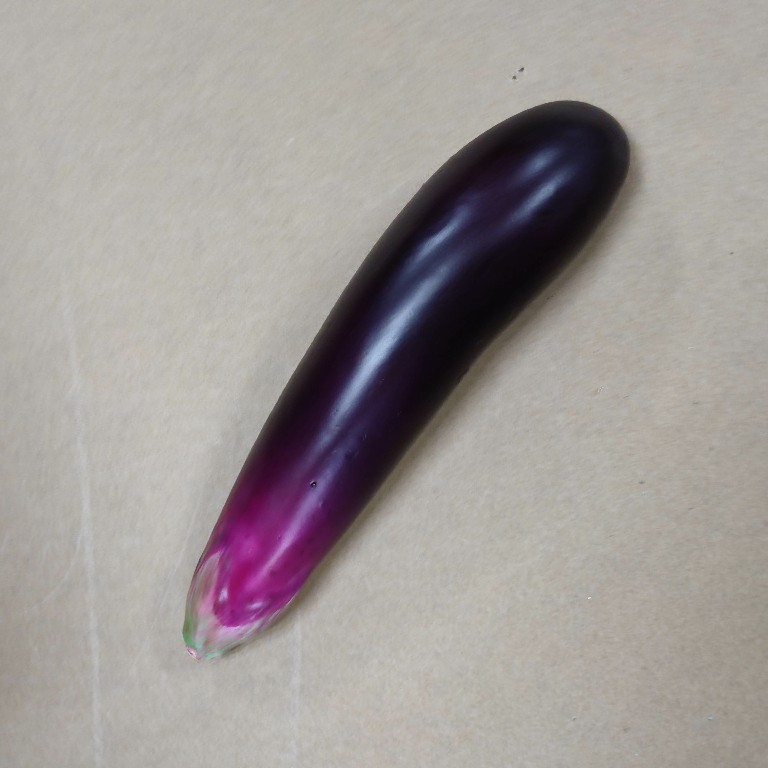fruit_eggplant: (178, 96, 638, 662)
